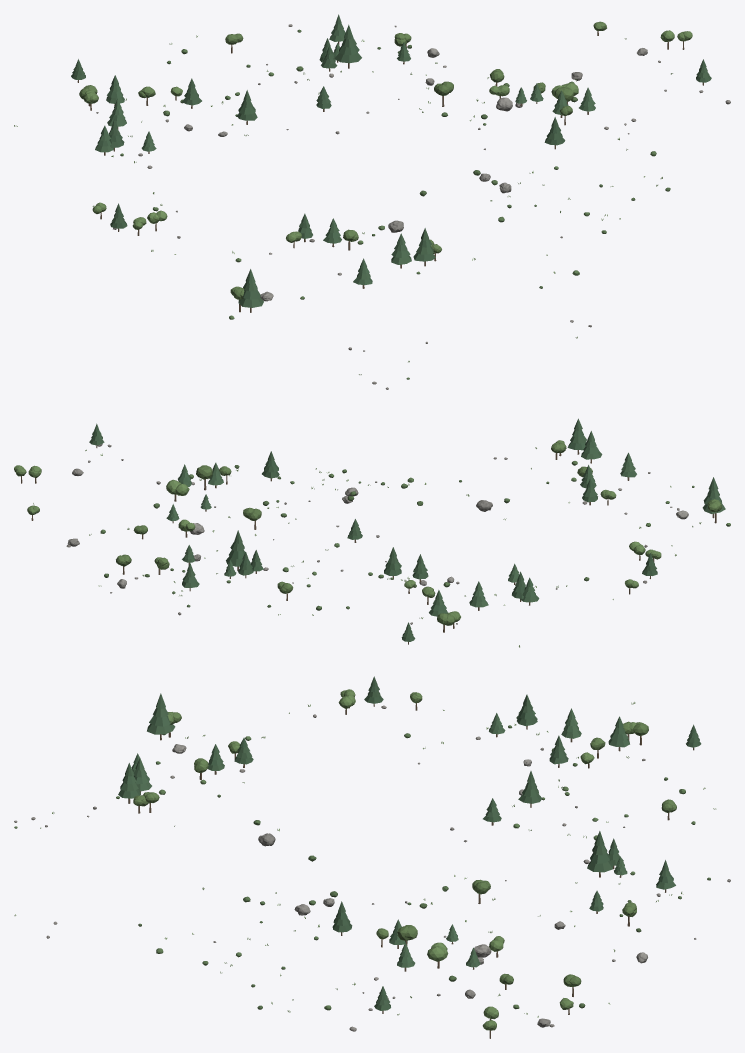
The model's file is arch_land_scatter_c18_18.glb.
3 renders of one model, top to bottom at view 1: azimuth 30°, elevation 25°; view 2: azimuth 150°, elevation 25°; view 3: azimuth 270°, elevation 25°, orthographic. The views are drawn at different scales.
Visible parts, largest first — view 1: arch_land_scatter_c18_18; view 2: arch_land_scatter_c18_18; view 3: arch_land_scatter_c18_18.
Boxes of the visible parts, left/top/right/bottom form: arch_land_scatter_c18_18: left=14, top=14, right=730, bottom=389; arch_land_scatter_c18_18: left=14, top=418, right=730, bottom=647; arch_land_scatter_c18_18: left=14, top=676, right=730, bottom=1038.
Bounding box in the file's own units: 261 × 44.18 × 239.
